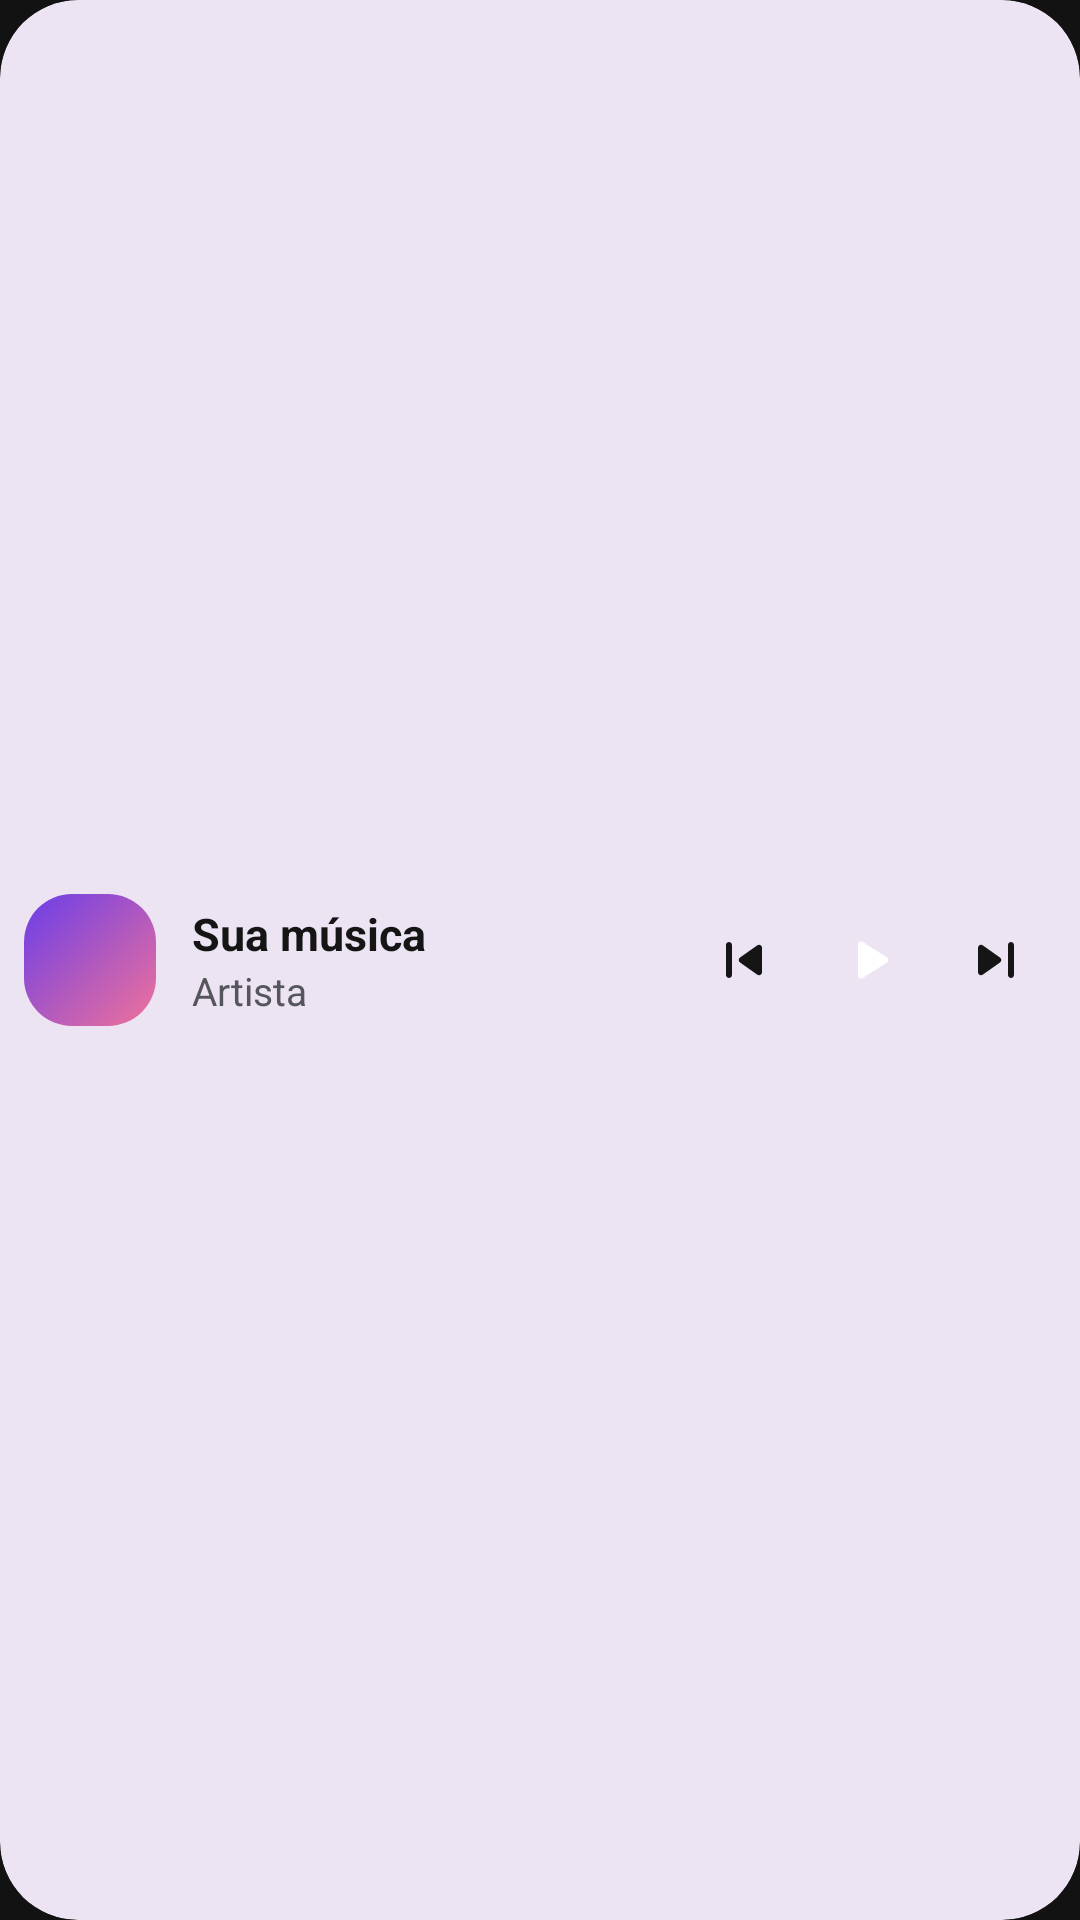

Icons on this 1080x1920 Android screen, each with its box as [left=x1, top=y1, right=x2, bottom=y2]:
widget next: [left=978, top=942, right=1014, bottom=978]
widget play: [left=858, top=942, right=888, bottom=978]
widget previous: [left=726, top=942, right=762, bottom=978]
